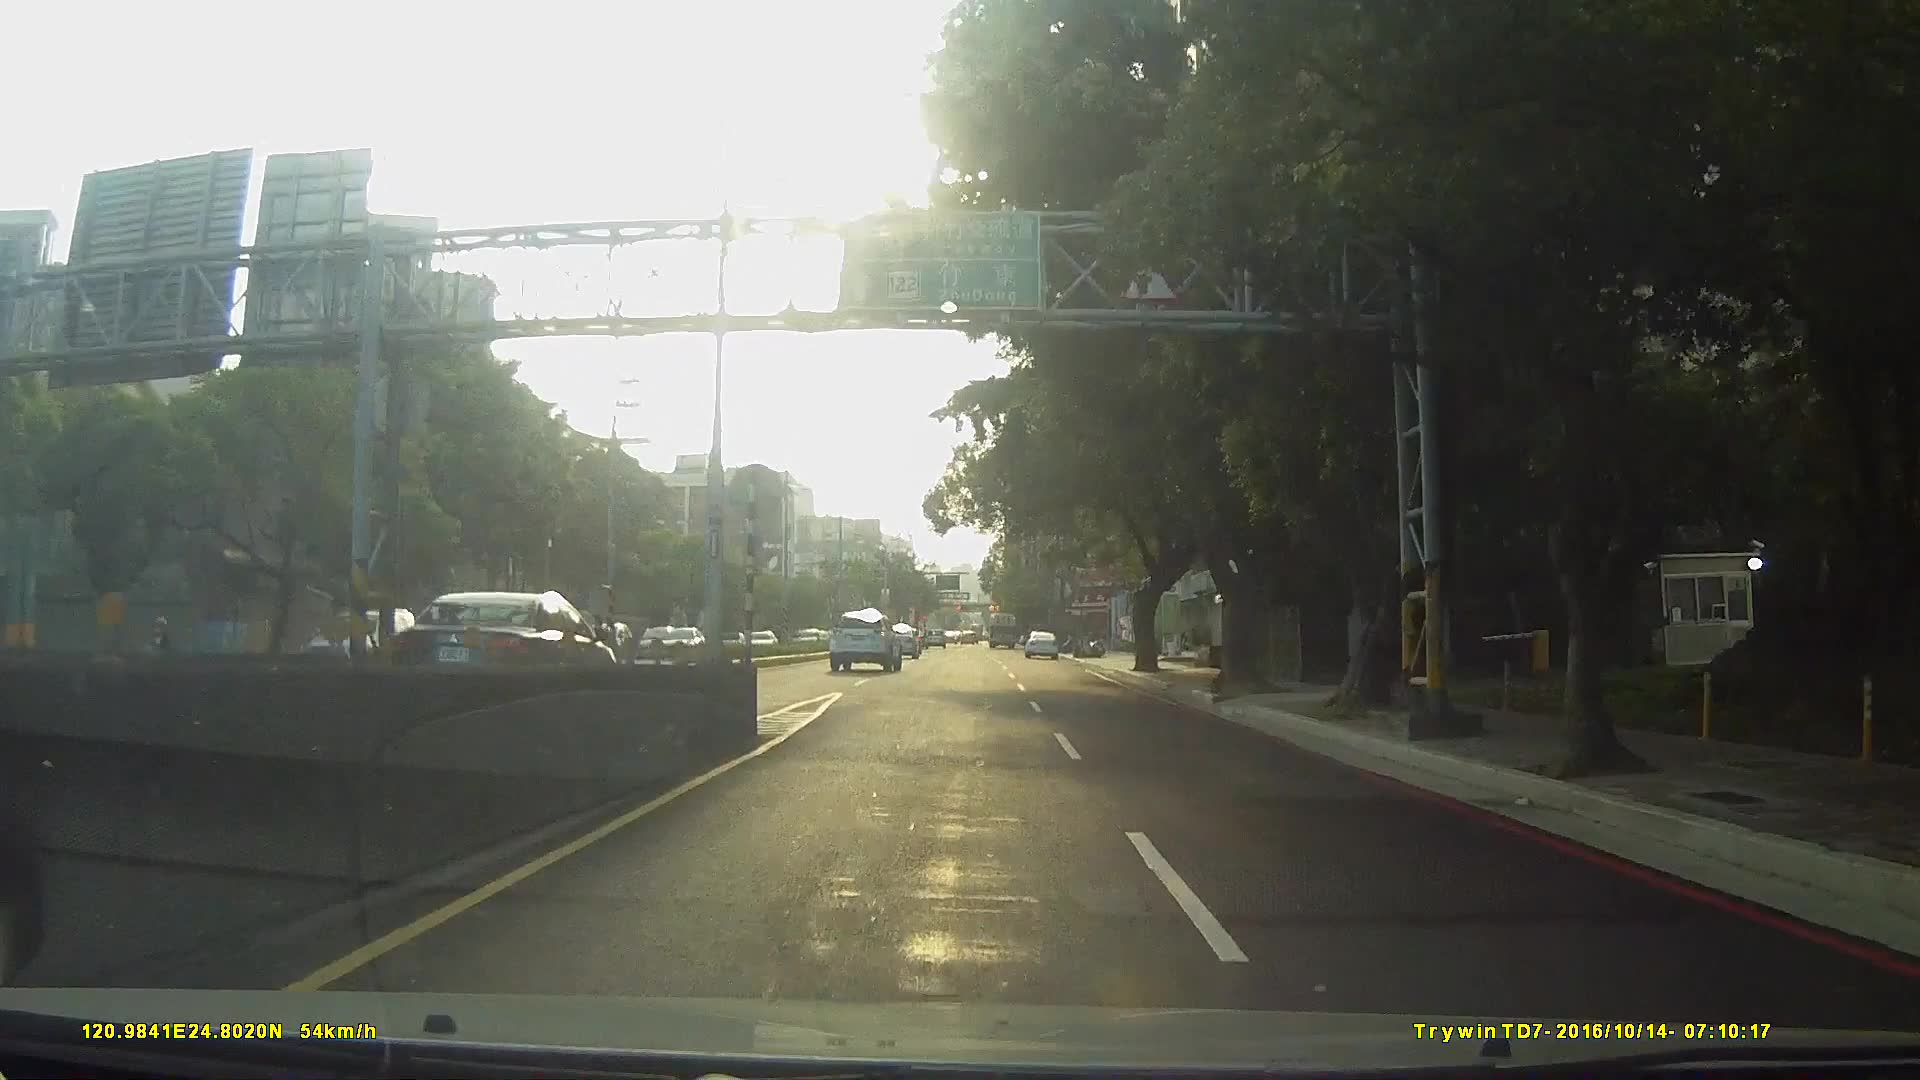vehicle: (386, 588, 620, 699), (825, 608, 902, 673), (881, 625, 920, 659), (986, 611, 1018, 649), (1022, 629, 1059, 659)
